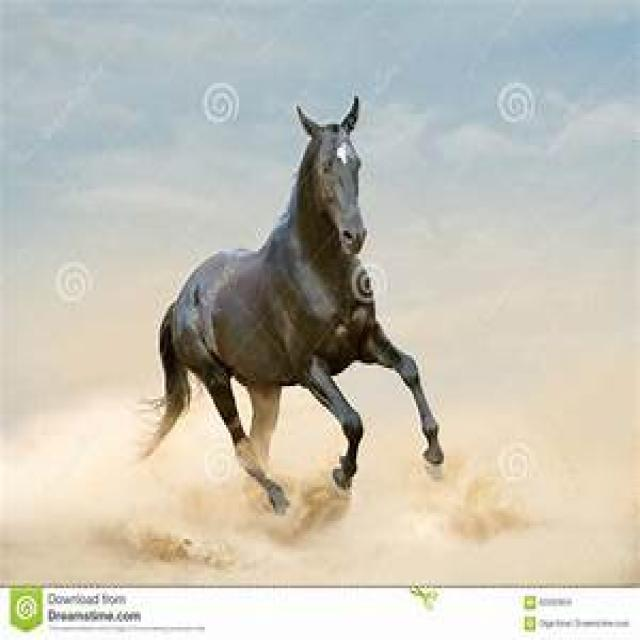horse: (137, 96, 446, 513)
